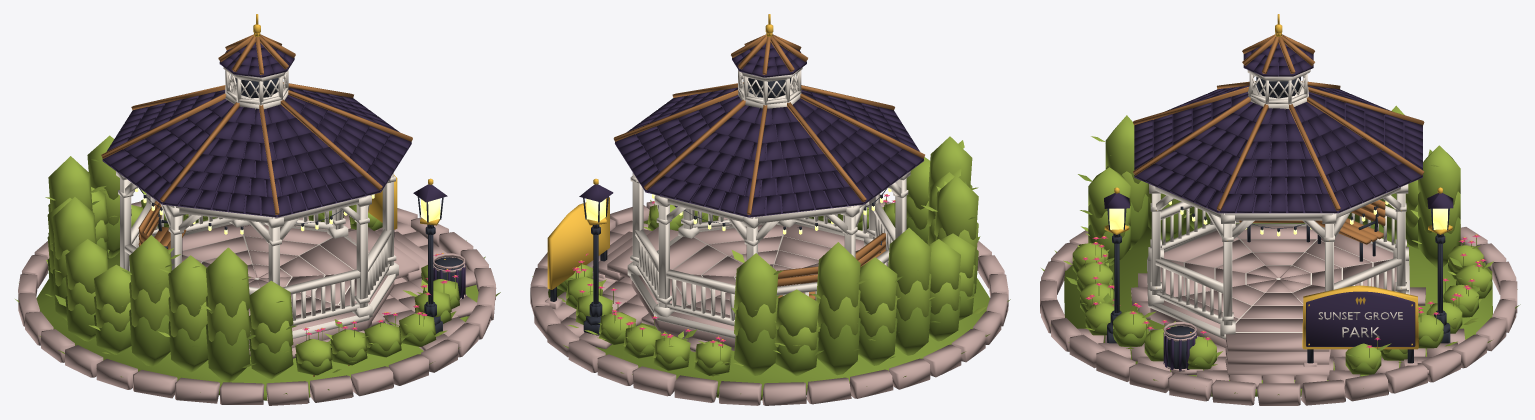
The model's file is bld.gazebo.lod2.glb.
3 views of the same model, side by side, from view 1: azimuth 30°, elevation 25°; view 2: azimuth 150°, elevation 25°; view 3: azimuth 270°, elevation 25° (orthographic).
Parts seen in each view (by area): view 1: object 3, roof, interior; view 2: object 3, roof, interior; view 3: object 3, roof, interior.
Part boxes in pixels (<box>): object 3: <box>15,135,500,405</box>; roof: <box>101,14,412,243</box>; interior: <box>138,201,427,348</box>; object 3: <box>530,136,1010,405</box>; roof: <box>613,14,924,243</box>; interior: <box>586,222,887,350</box>; object 3: <box>1040,105,1520,405</box>; roof: <box>1133,14,1424,239</box>; interior: <box>1147,200,1409,379</box>.
Size of the model in its own units: 10.68 by 7.07 by 10.55.
